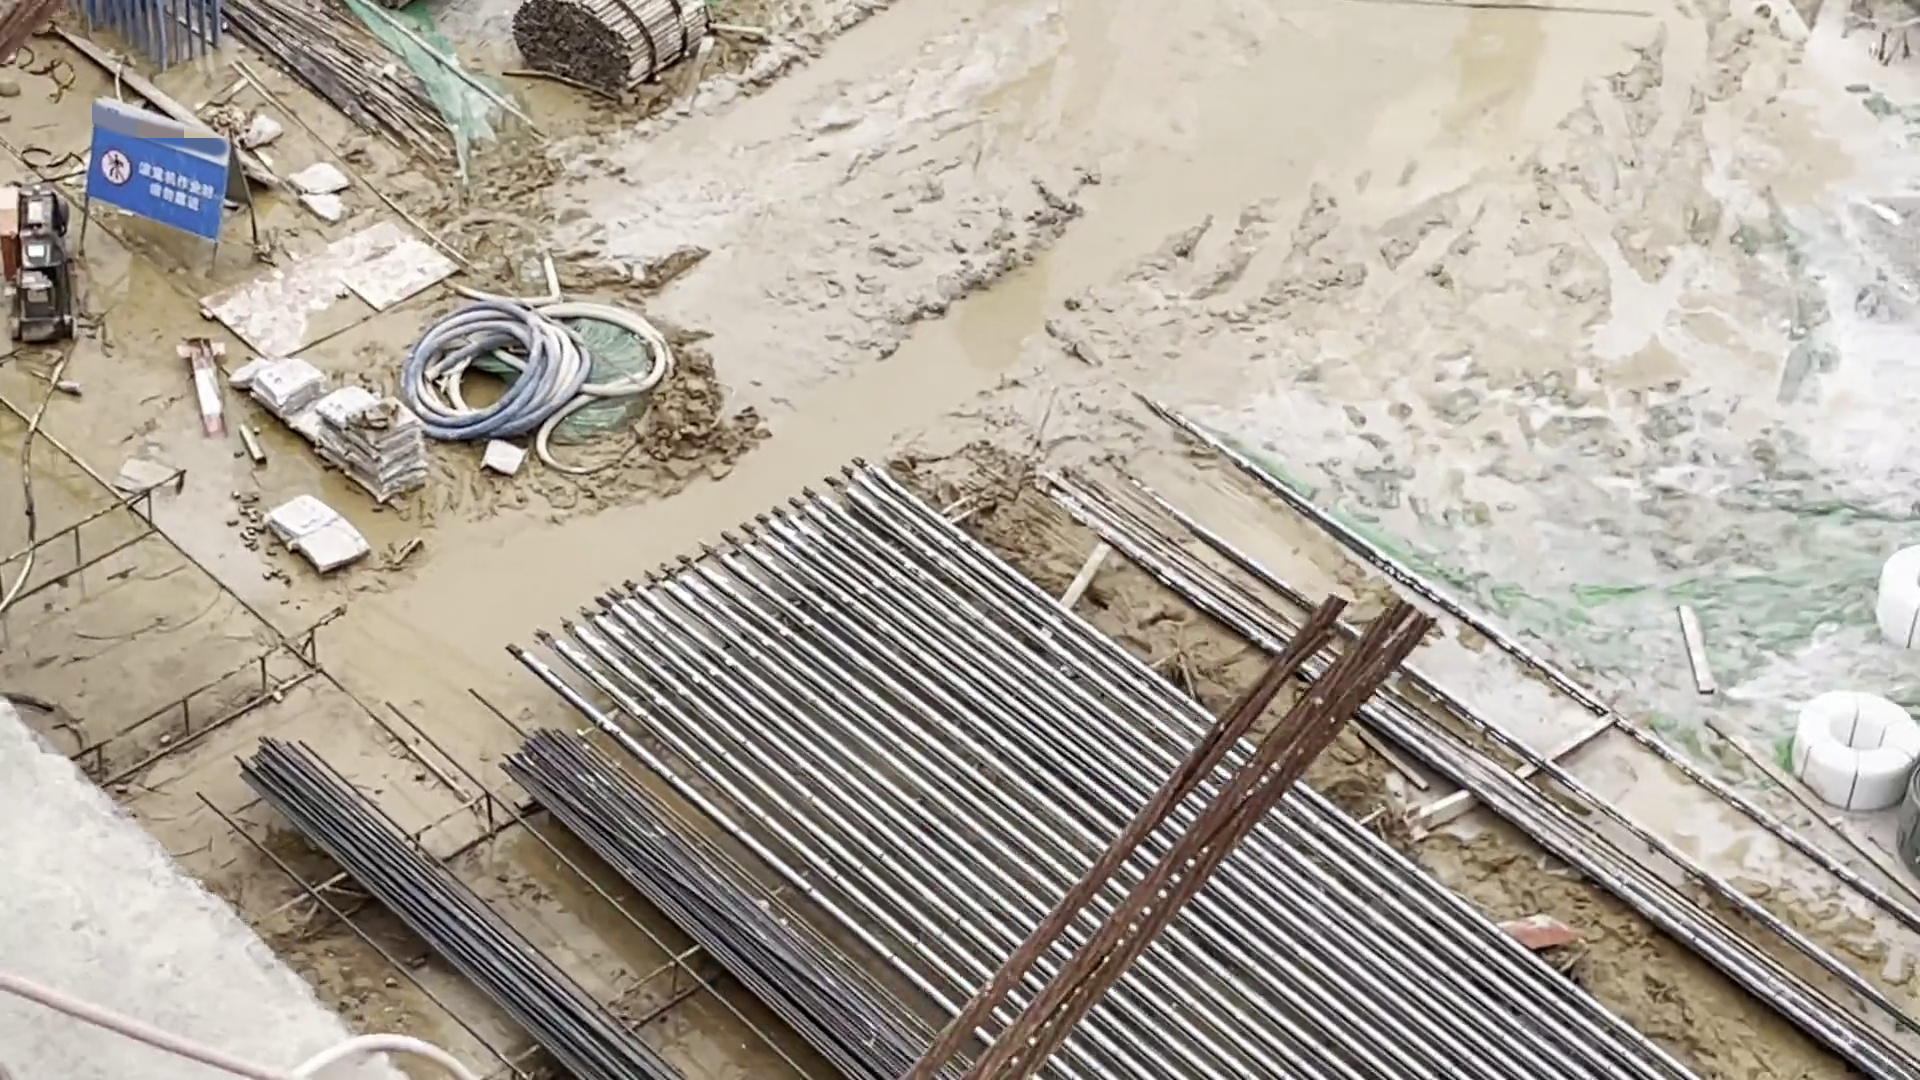rebar: (193, 723, 651, 1080), (473, 724, 934, 1080)
slogan: (80, 119, 222, 227)
wood: (508, 4, 707, 94)
